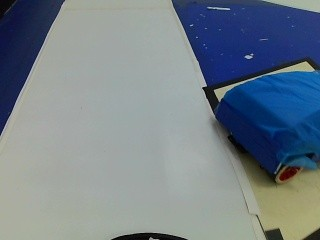car: (210, 67, 320, 189)
